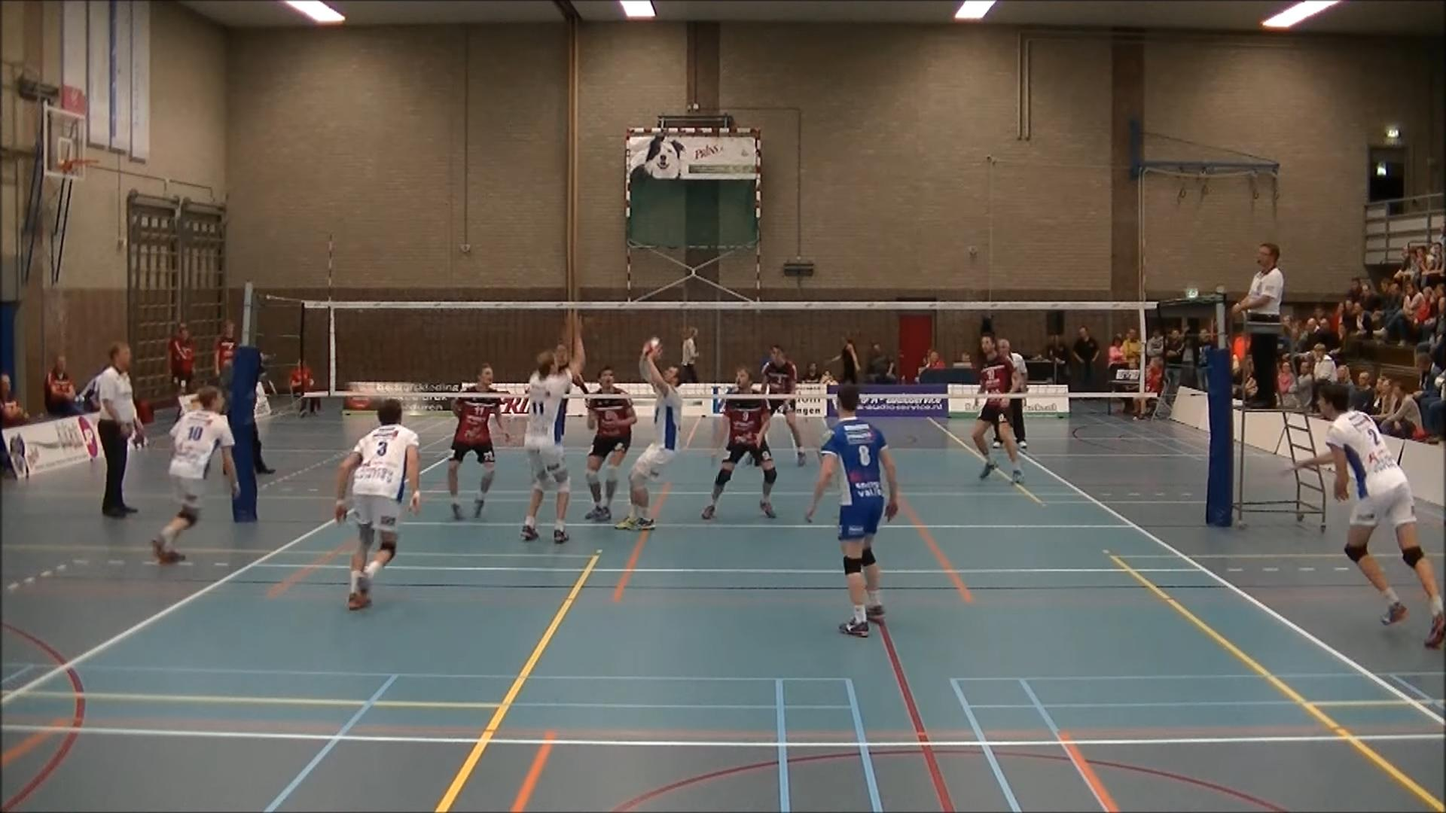Player: (1296, 384, 1445, 648), (806, 384, 898, 636), (336, 399, 419, 609), (152, 386, 238, 564), (521, 316, 584, 544), (702, 397, 776, 519), (447, 365, 505, 519), (586, 366, 636, 521), (972, 335, 1023, 483), (769, 400, 806, 465)
Set: (623, 337, 686, 534)
ball: (638, 332, 666, 361)
